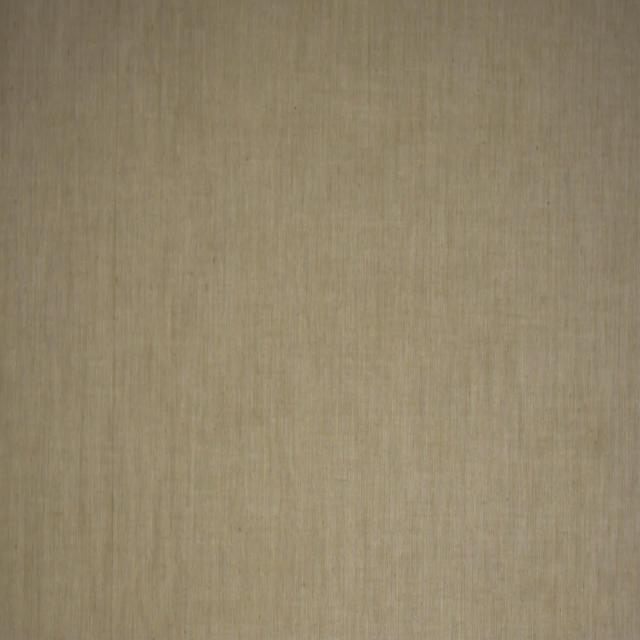dirty: (588, 431, 608, 467)
